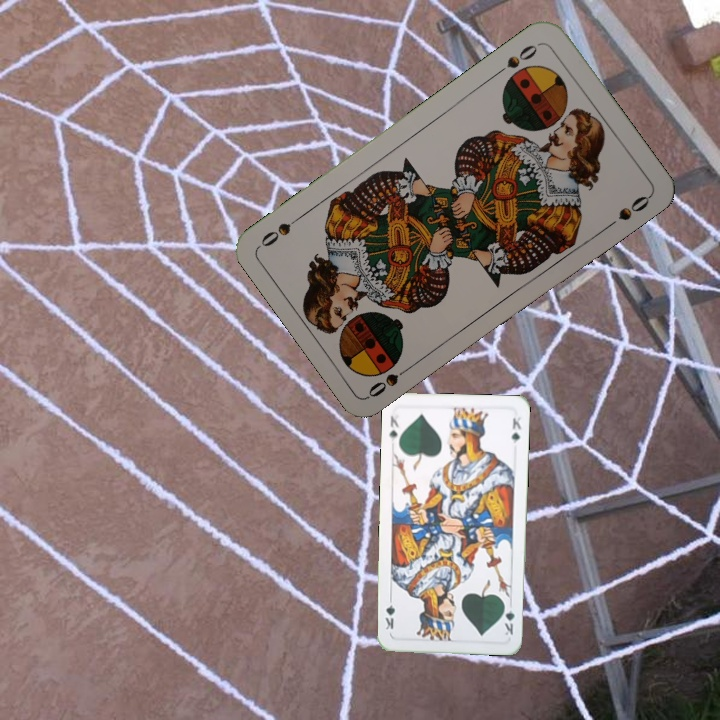GK: (500, 598, 517, 638), (385, 411, 401, 443)
SO: (364, 360, 417, 400), (491, 40, 540, 78)
